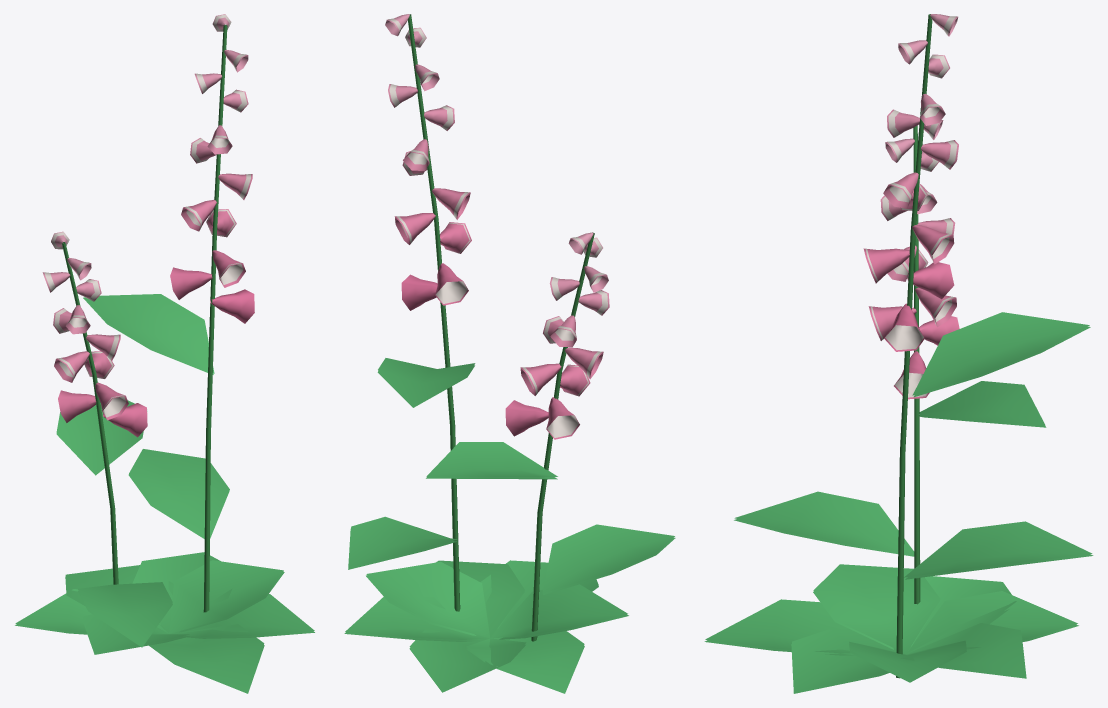
File: ing_foxglove.gltf
3 views of the same model, side by side, from view 1: azimuth 30°, elevation 25°; view 2: azimuth 150°, elevation 25°; view 3: azimuth 270°, elevation 25° (orthographic). The views are drawn at different scales.
Parts seen in each view (by area): view 1: ing_foxglove; view 2: ing_foxglove; view 3: ing_foxglove.
Boxes of the visible parts, x1,y1,x2,y2 form: ing_foxglove: [15, 14, 314, 693]; ing_foxglove: [344, 14, 675, 693]; ing_foxglove: [704, 14, 1093, 693].
Size of what is drawn, in the model's own units: 0.3725 by 0.8855 by 0.4586.
